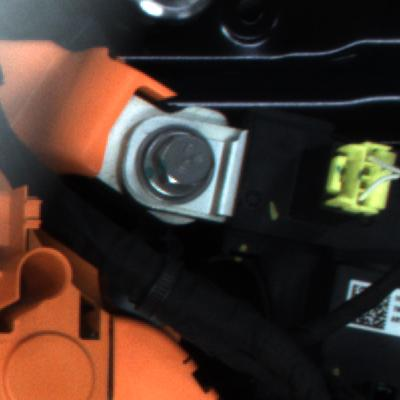nut_b: (129, 124, 239, 217)
